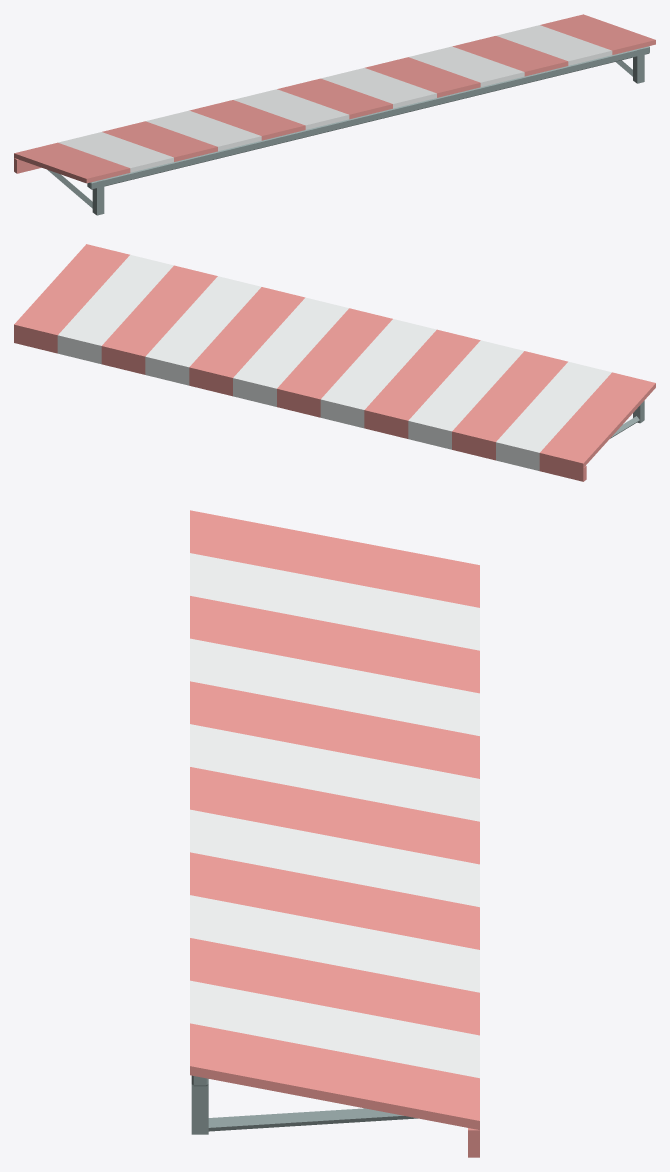
Rendered from street_awning_4.glb.
3 views of the same model, one above another, from view 1: azimuth 30°, elevation 25°; view 2: azimuth 150°, elevation 25°; view 3: azimuth 270°, elevation 25° (orthographic). The views are drawn at different scales.
Visible parts, largest first — view 1: RearRail, CanopyStripe0, CanopyStripe9, CanopyStripe4, CanopyStripe11, CanopyStripe10, CanopyStripe5, CanopyStripe2, CanopyStripe8, CanopyStripe1, CanopyStripe6, CanopyStripe7 (+4 smaller); view 2: CanopyStripe0, CanopyStripe9, CanopyStripe5, CanopyStripe10, CanopyStripe11, CanopyStripe1, CanopyStripe2, CanopyStripe3, CanopyStripe4, CanopyStripe7, CanopyStripe6, CanopyStripe8 (+14 smaller); view 3: CanopyStripe12, CanopyStripe0, CanopyStripe1, CanopyStripe5, CanopyStripe6, CanopyStripe8, CanopyStripe10, CanopyStripe11, CanopyStripe2, CanopyStripe3, CanopyStripe4, CanopyStripe7 (+2 smaller).
Boxes of the visible parts, <box> form: RearRail: <box>87,46,649,189</box>; CanopyStripe0: <box>14,142,130,183</box>; CanopyStripe9: <box>408,46,524,86</box>; CanopyStripe4: <box>189,100,305,140</box>; CanopyStripe11: <box>496,25,612,65</box>; CanopyStripe10: <box>452,36,568,76</box>; CanopyStripe5: <box>233,89,349,129</box>; CanopyStripe2: <box>102,121,217,161</box>; CanopyStripe8: <box>365,57,480,97</box>; CanopyStripe1: <box>58,132,173,172</box>; CanopyStripe6: <box>277,78,392,119</box>; CanopyStripe7: <box>321,68,436,108</box>; CanopyStripe0: <box>539,372,655,467</box>; CanopyStripe9: <box>145,276,261,371</box>; CanopyStripe5: <box>320,319,436,414</box>; CanopyStripe10: <box>101,265,217,360</box>; CanopyStripe11: <box>57,255,173,350</box>; CanopyStripe1: <box>496,361,611,457</box>; CanopyStripe2: <box>452,351,567,446</box>; CanopyStripe3: <box>408,340,523,435</box>; CanopyStripe4: <box>364,329,480,425</box>; CanopyStripe7: <box>233,297,348,393</box>; CanopyStripe6: <box>277,308,392,403</box>; CanopyStripe8: <box>189,287,305,382</box>; CanopyStripe12: <box>190,1023,479,1129</box>; CanopyStripe0: <box>190,510,479,607</box>; CanopyStripe1: <box>190,553,479,650</box>; CanopyStripe5: <box>190,724,479,821</box>; CanopyStripe6: <box>190,767,479,864</box>; CanopyStripe8: <box>190,852,479,949</box>; CanopyStripe10: <box>190,938,479,1035</box>; CanopyStripe11: <box>190,980,479,1078</box>; CanopyStripe2: <box>190,596,479,693</box>; CanopyStripe3: <box>190,638,479,735</box>; CanopyStripe4: <box>190,681,479,778</box>; CanopyStripe7: <box>190,809,479,907</box>.
Bounding box in the file's own units: 1.77 × 0.1363 × 0.3909.
